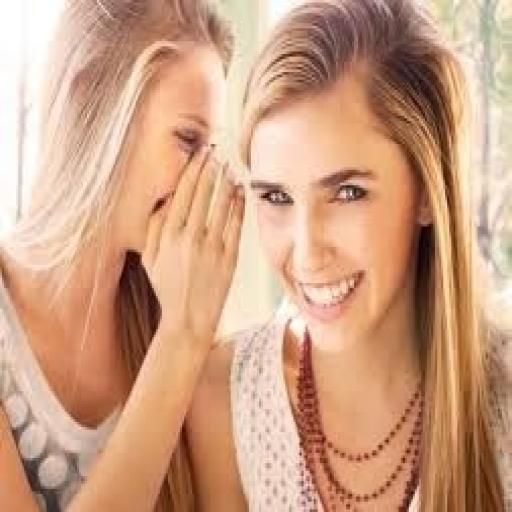laughing: (238, 10, 512, 512)
